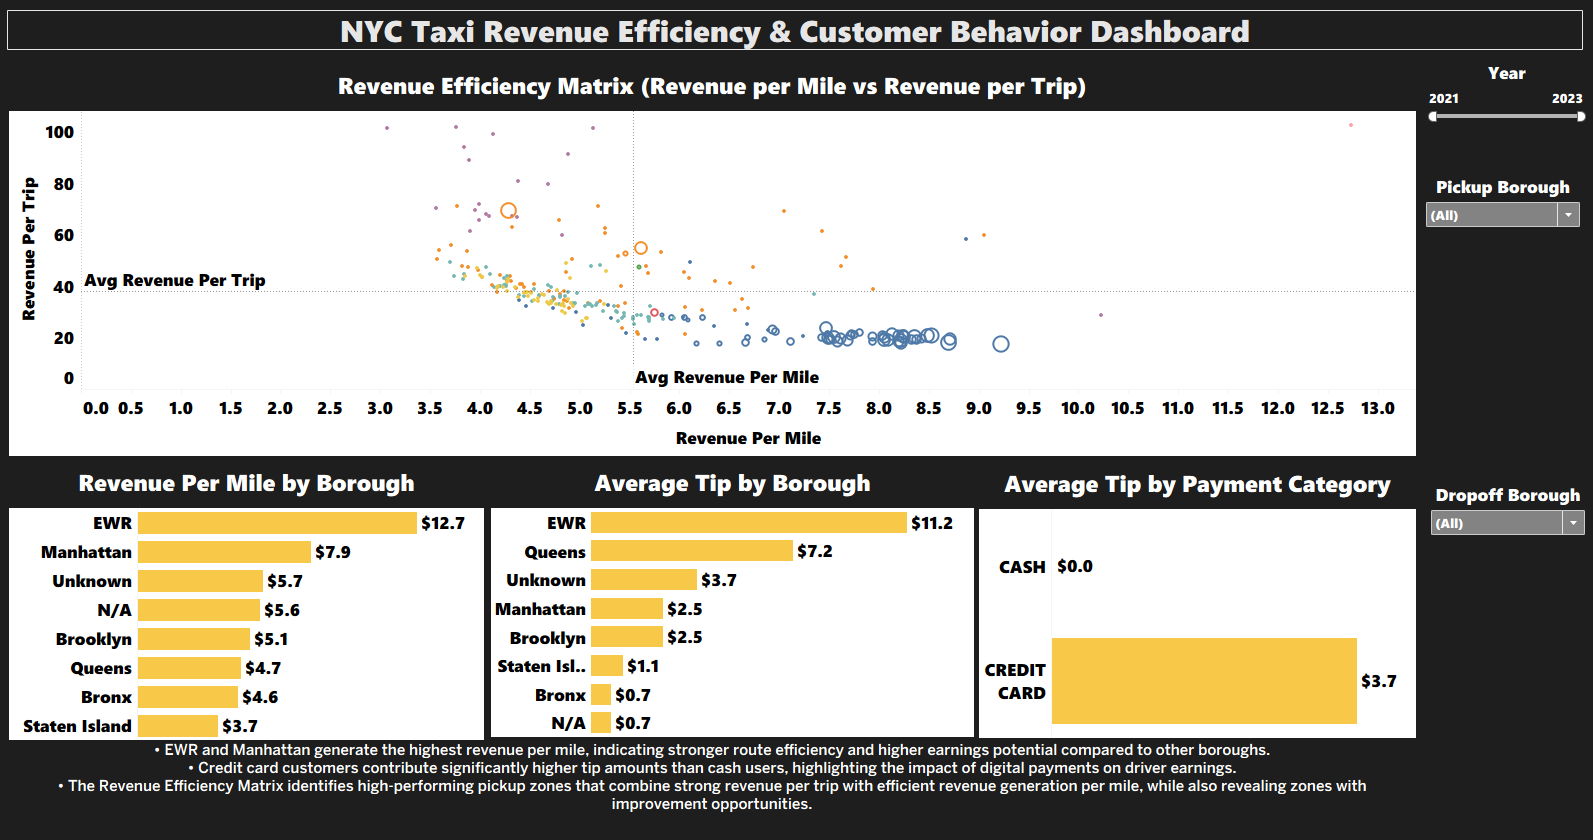

Layout of this report page (visuals, bound fields, positions):
{"tool":"tableau","page":{"name":"NYC Taxi Revenue Efficiency & Customer Behavior Dashboard","canvas":[1600,900],"ordinal":3},"visuals":[{"type":"title","box":[8,8,1584,48]},{"type":"filter","title":"Revenue Efficiency Matrix (Revenue per Mile vs Revenue per Trip)","param":"[federated.1gqoiu10hzd73p16axawn1ip6ucj].[none:YEAR:qk]","box":[1429,63,166,94]},{"type":"worksheet","title":"Revenue Efficiency Matrix (Revenue per Mile vs Revenue per Trip)","mark":"Automatic","rows":["Calculation_2080281162706957"],"cols":["Calculation_2080281164763151"],"box":[14,67,1407,391]},{"type":"filter","title":"Revenue Efficiency Matrix (Revenue per Mile vs Revenue per Trip)","param":"[federated.1gqoiu10hzd73p16axawn1ip6ucj].[none:PICKUP_BOROUGH:nk]","box":[1428,177,160,290]},{"type":"worksheet","title":"Revenue Per Mile by Borough","mark":"Automatic","rows":["PICKUP_BOROUGH"],"cols":["Calculation_2080281164763151"],"box":[14,464,475,278]},{"type":"worksheet","title":"Average Tip by Borough","mark":"Automatic","rows":["PICKUP_BOROUGH"],"cols":["Calculation_2080281160093708"],"box":[496,464,483,275]},{"type":"worksheet","title":"Average Tip by Payment Category","mark":"Automatic","rows":["PAYMENT_CATEGORY"],"cols":["Calculation_2080281160093708"],"box":[984,465,437,275]},{"type":"filter","title":"Revenue Efficiency Matrix (Revenue per Mile vs Revenue per Trip)","param":"[federated.1gqoiu10hzd73p16axawn1ip6ucj].[none:DROPOFF_BOROUGH:nk]","box":[1433,485,160,255]},{"type":"text","box":[12,743,1410,152]}]}

Visuals, with their boxes on the page's 1600x900 design canvas (x1, y1, x2, y2). These are canvas units, not pixel positions in the 1593x840 screenshot, which may show the page scaled, cropped or inside an application window:
title: crop(8, 8, 1592, 56)
"Revenue Efficiency Matrix (Revenue per Mile vs Revenue per Trip)" filter: crop(1429, 63, 1595, 157)
"Revenue Efficiency Matrix (Revenue per Mile vs Revenue per Trip)" worksheet: crop(14, 67, 1421, 458)
"Revenue Efficiency Matrix (Revenue per Mile vs Revenue per Trip)" filter: crop(1428, 177, 1588, 467)
"Revenue Per Mile by Borough" worksheet: crop(14, 464, 489, 742)
"Average Tip by Borough" worksheet: crop(496, 464, 979, 739)
"Average Tip by Payment Category" worksheet: crop(984, 465, 1421, 740)
"Revenue Efficiency Matrix (Revenue per Mile vs Revenue per Trip)" filter: crop(1433, 485, 1593, 740)
text: crop(12, 743, 1422, 895)
